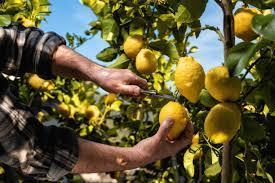lemon: (204, 102, 241, 144), (175, 56, 205, 104), (205, 66, 241, 102), (158, 101, 188, 140), (234, 8, 262, 42), (136, 47, 156, 74), (124, 35, 144, 58)
